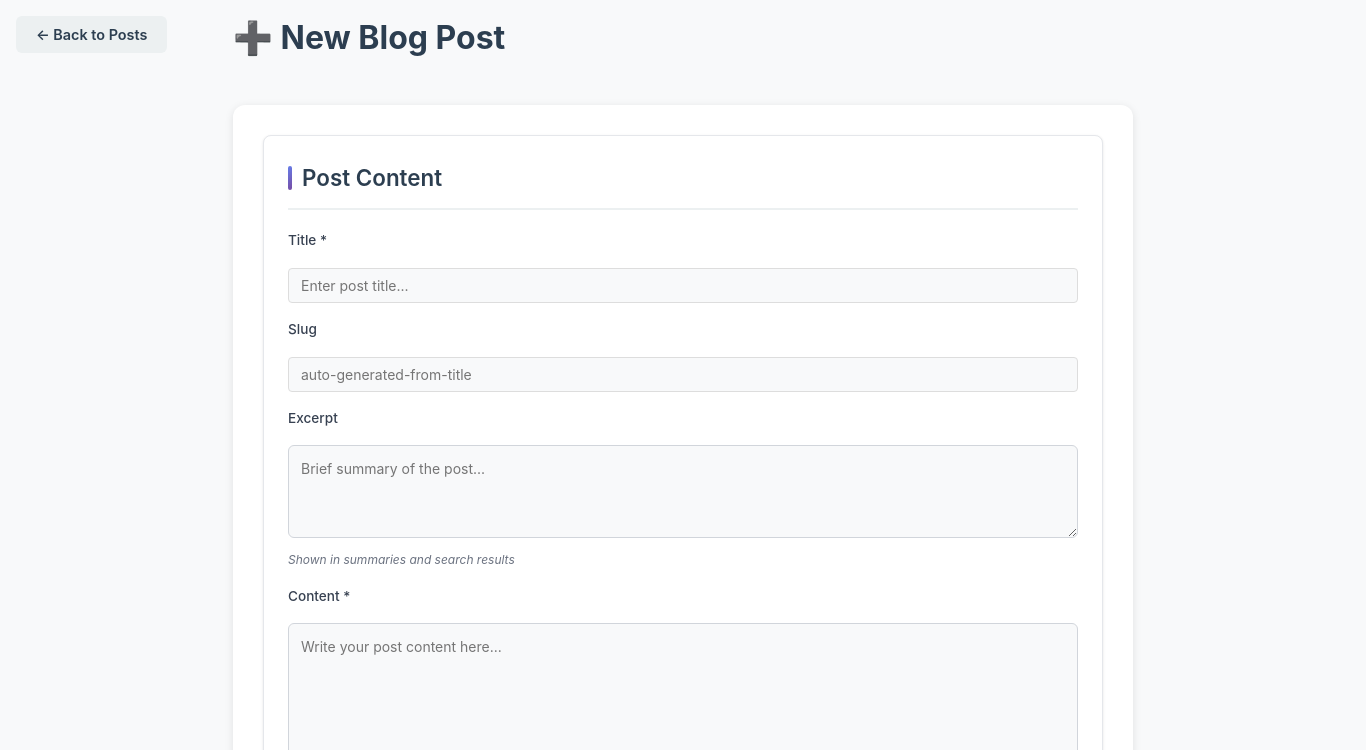
Test case: BlogPostForm Component › Create Mode › should submit new blog post successfully
In the field labelled "Title *": point(683, 285) [288,268,1078,303], type "Test Blog Post"
(page scrolled)
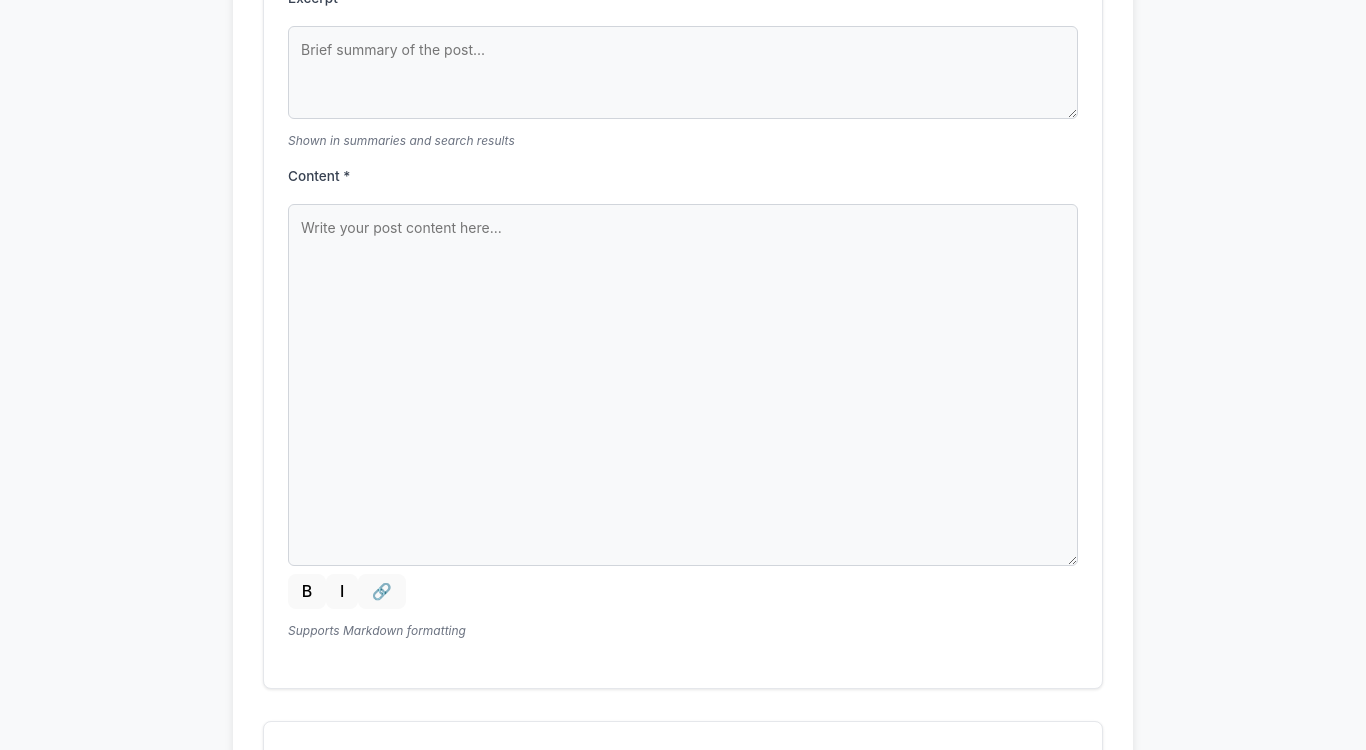
In the text box labelled "Content *": point(683, 385) [288,204,1078,566], type "This is test content"
(page scrolled)
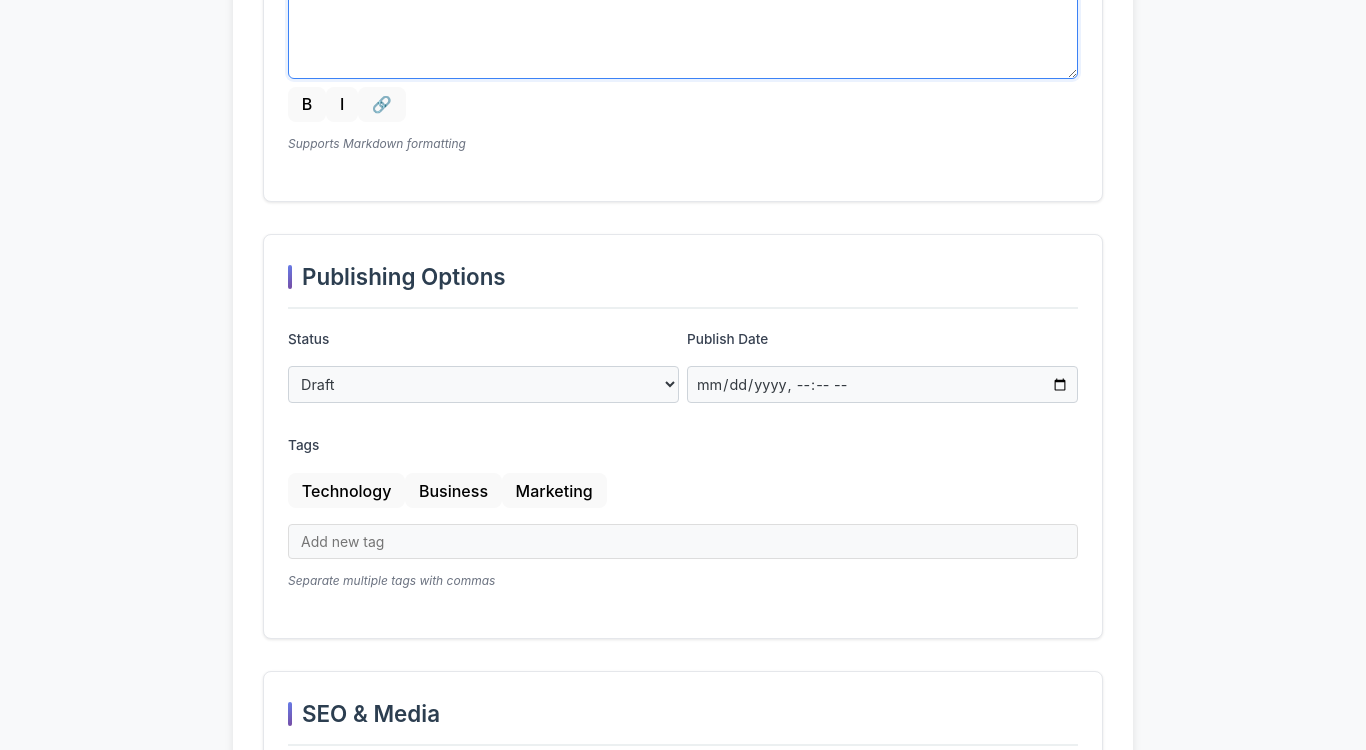
Select "Published" in the dropdown labelled "Status": point(484, 385) [288,366,679,403]
(page scrolled)
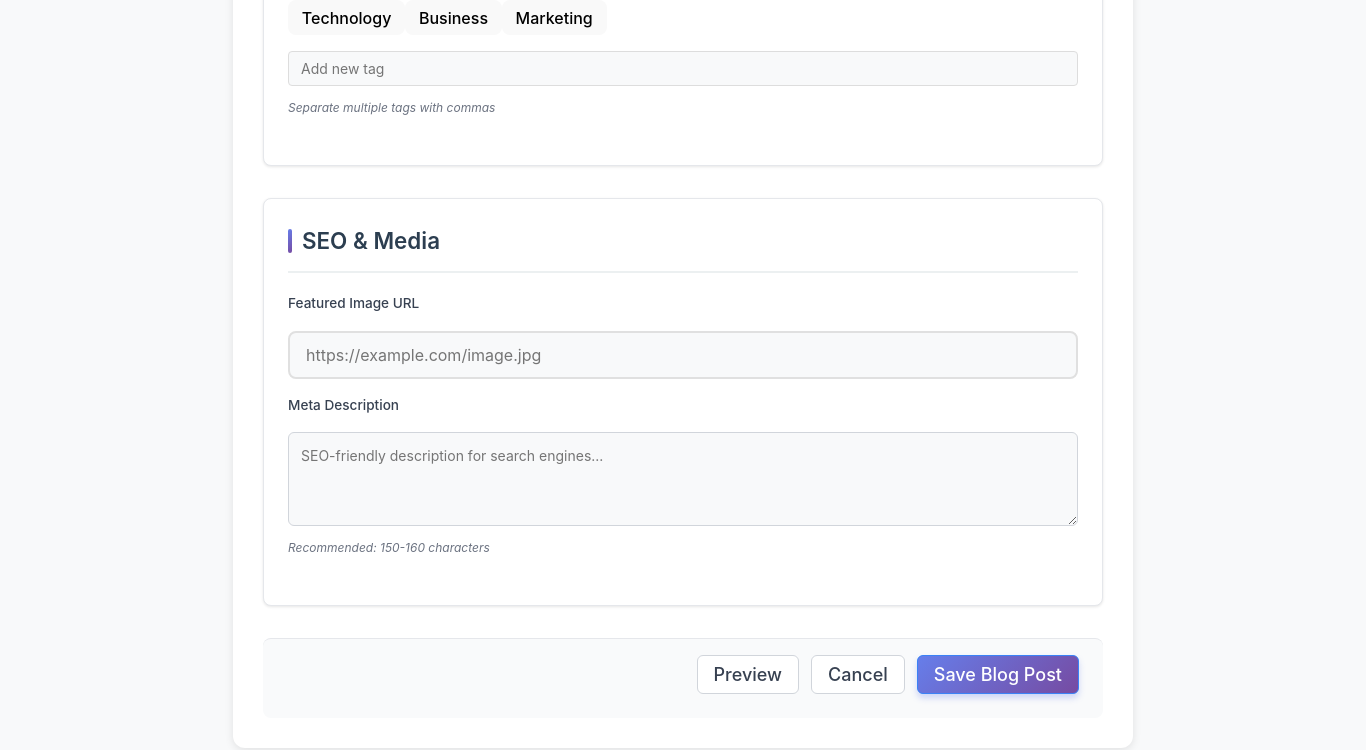
Click the button "Save Blog Post": point(998, 674) [917,655,1079,694]
(page scrolled)
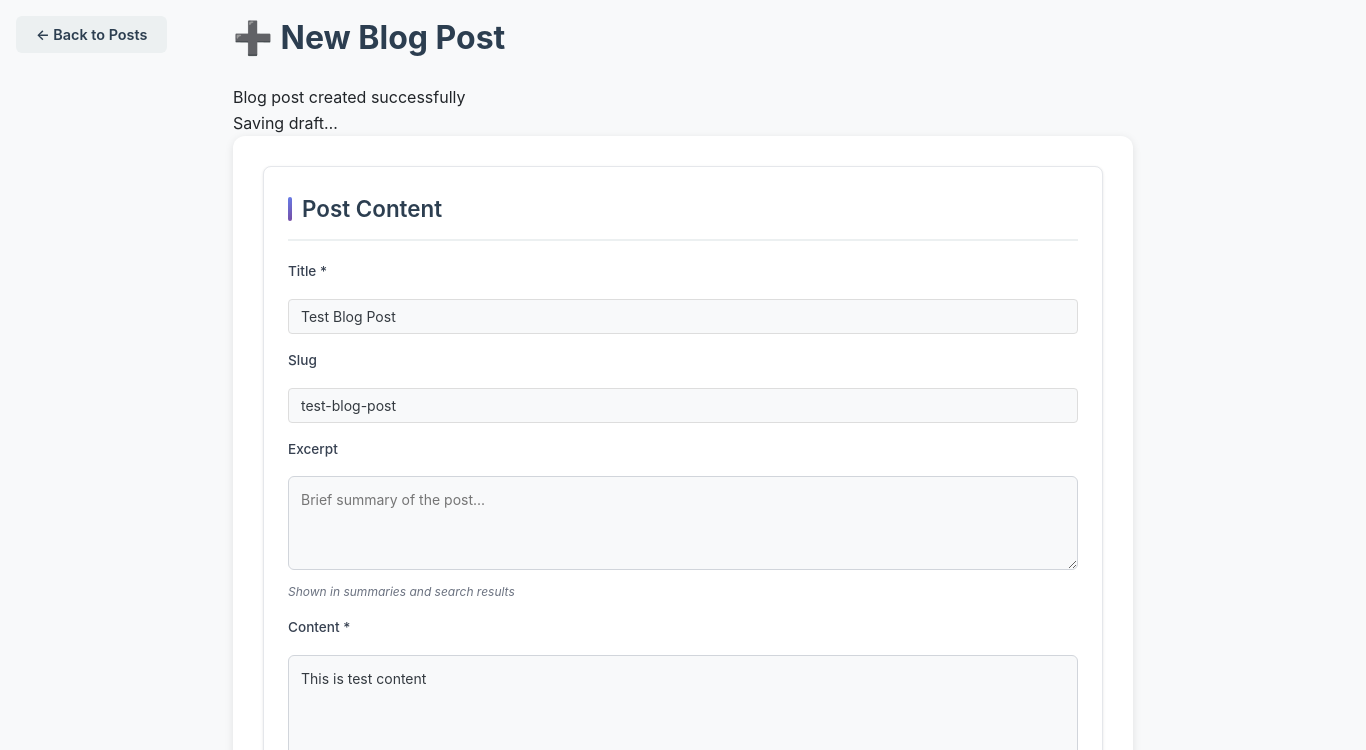
expect the text "Blog post created successfully" is shown: met, box [233,87,466,107]
